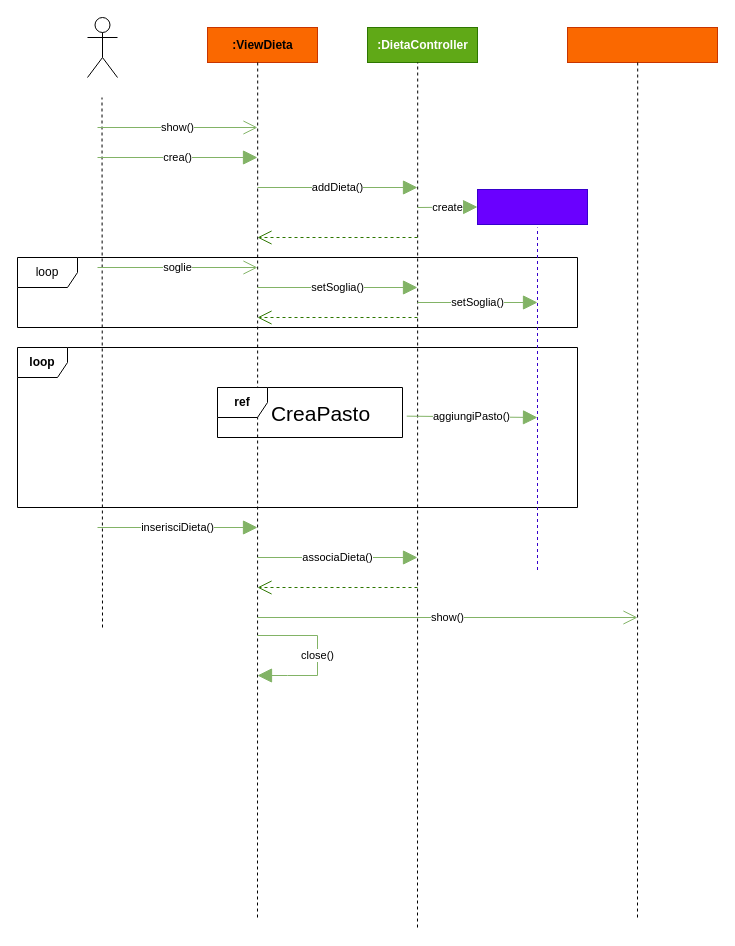
The diagram is 735 pixels wide and 946 high, and some of its shapes have lost their labels. The centre of each missing label's shape, as x and y in pixels:
":Dieta" belongs at [532,206].
":ViewInserisciScheda" belongs at [642,44].
"Nutrizionista" belongs at [102,47].
